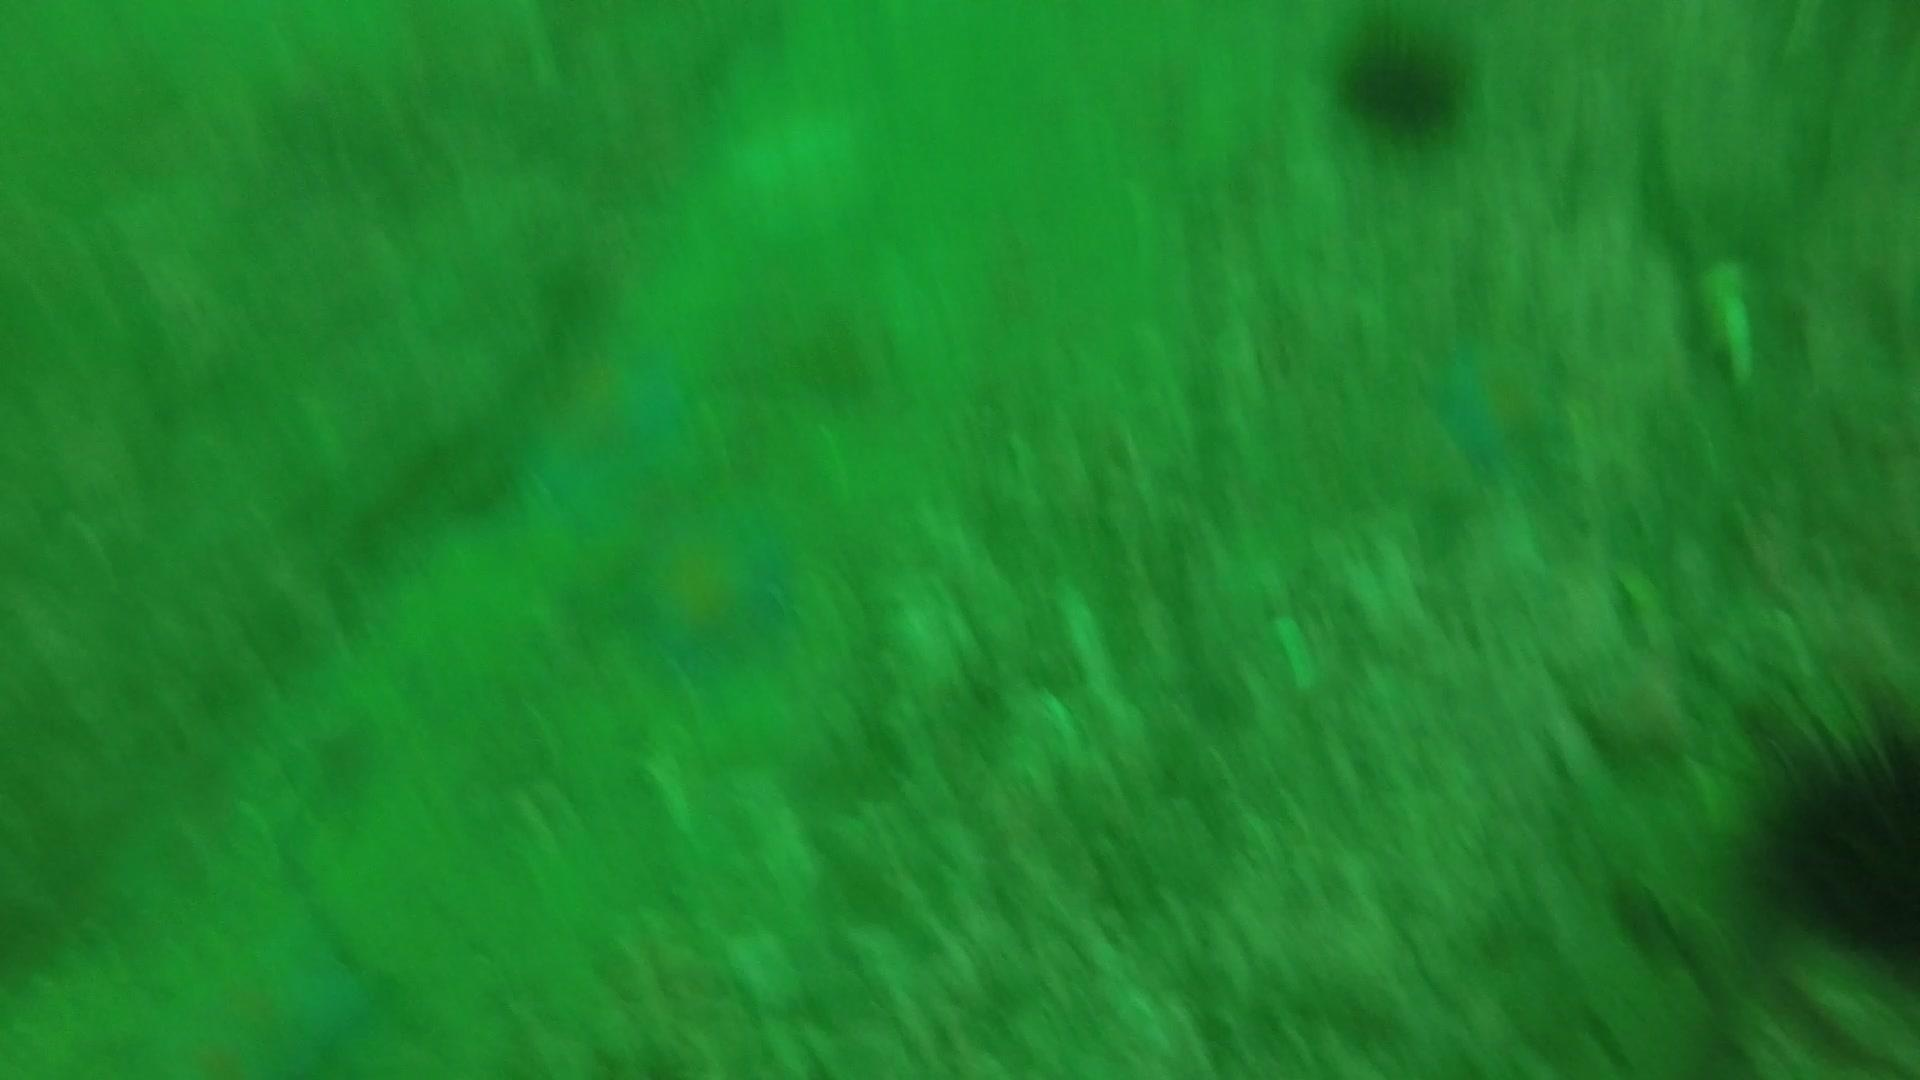echinus: (1737, 684, 1919, 977), (1328, 18, 1476, 146)
starfish: (512, 323, 717, 525), (123, 920, 378, 1079), (613, 501, 803, 676), (1419, 327, 1572, 481)
